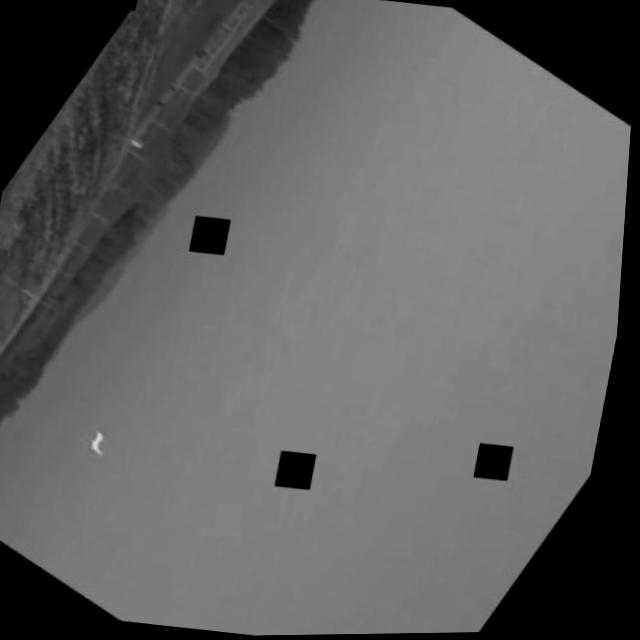aeroplane: (91, 428, 117, 458)
